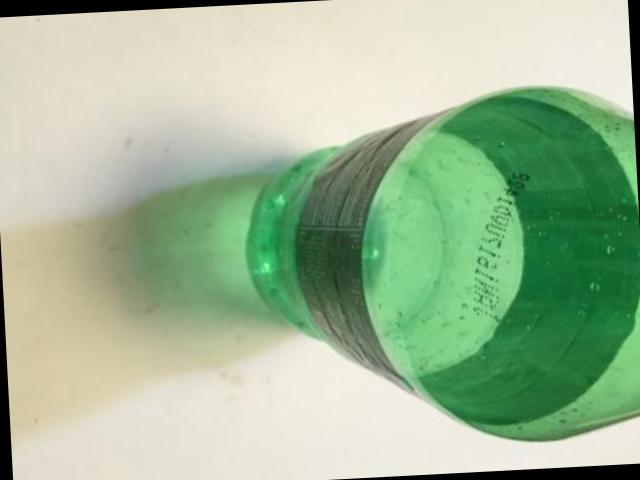plastic: (248, 84, 640, 437)
